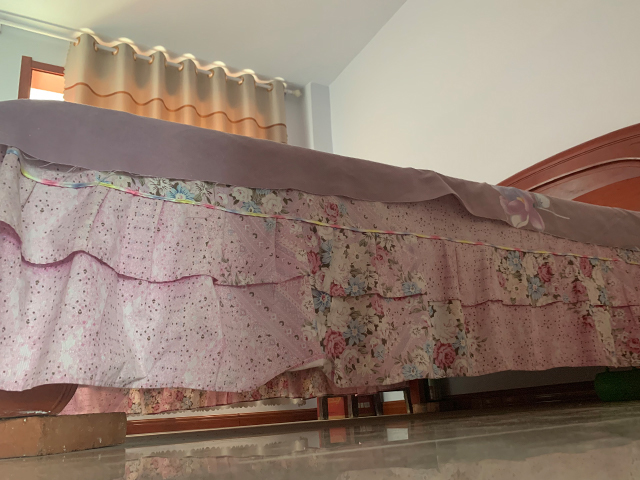bed: (1, 98, 640, 419)
